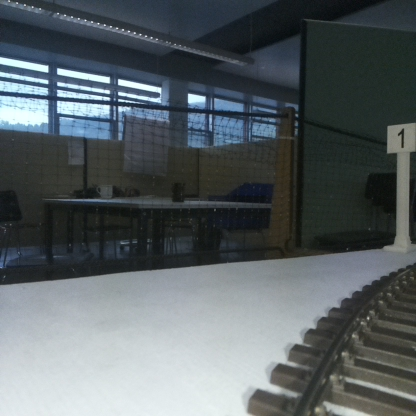white-info-1: (387, 125, 416, 250)
